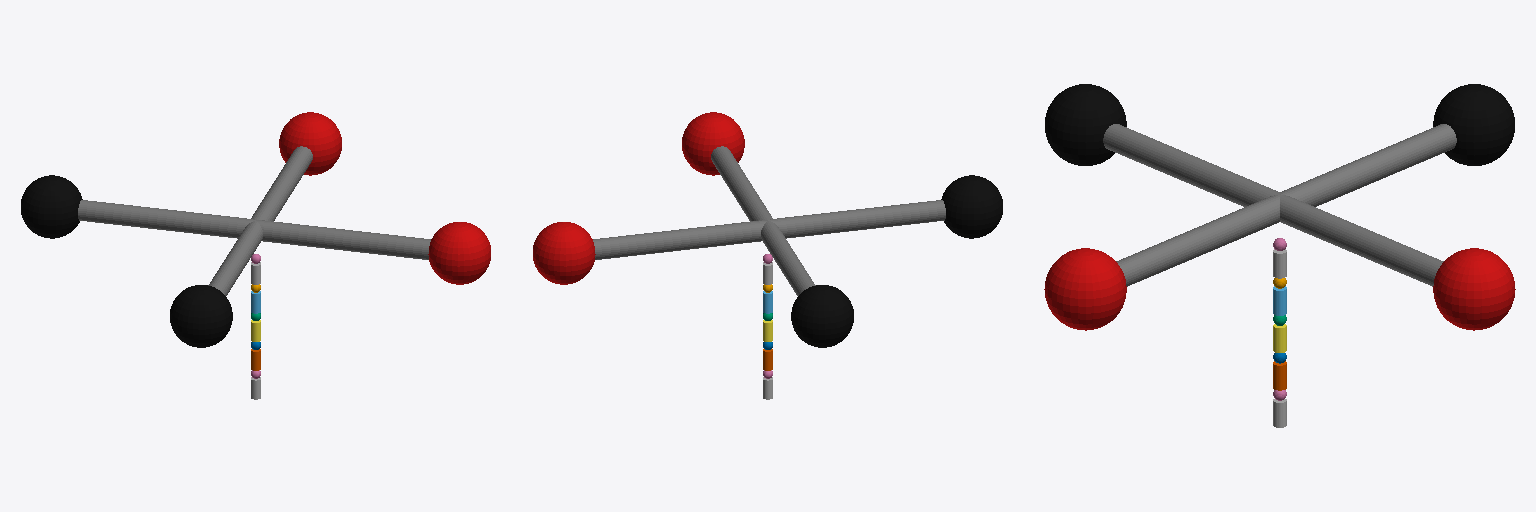
robot.urdf — general_rope:
<?xml version="1.0" ?>

<!-- general.urdf (des-inf-dom-rand) with the rope of a300_rope.urdf at twice its length (5 x 3 cm) hanging from the COM,
     for the pursuer task (rod.hang 0.16, spawn_height 2.66).
     General quadrotor for wide domain randomization: two crossed arms and four motor spheres.
     The drone parameters and their randomization ranges are in hydra_configs/drone/general.yaml, whose
     nominals are written into Genesis at build. kf and km are in <properties> because Genesis needs them to
     load. Front motors red, back motors black. -->

<robot name="general_rope">

  <properties kf="4.5e-8" km="5.4e-10" />

  <link name="base_link">

    <inertial>
      <origin rpy="0 0 0" xyz="0 0 0"/>
      <mass value="1.0"/>
      <inertia ixx="0.01" ixy="0.0" ixz="0.0" iyy="0.01" iyz="0.0" izz="0.016"/>
    </inertial>

    <visual>
      <origin rpy="0 1.570796 0.785398" xyz="0 0 0"/>
      <geometry>
        <cylinder radius="0.01" length="0.4"/>
      </geometry>
      <material name="grey"><color rgba="0.5 0.5 0.5 1"/></material>
    </visual>

    <visual>
      <origin rpy="0 1.570796 -0.785398" xyz="0 0 0"/>
      <geometry>
        <cylinder radius="0.01" length="0.4"/>
      </geometry>
      <material name="grey"><color rgba="0.5 0.5 0.5 1"/></material>
    </visual>

    <collision>
      <origin rpy="0 0 0" xyz="0 0 0"/>
      <geometry>
        <cylinder radius="0.05" length="0.04"/>
      </geometry>
    </collision>

  </link>

  <!-- Rotors as on the a300/x500: 0 front right (ccw), 1 back left (ccw), 2 front left (cw), 3 back right (cw),
       so propellers_spin=(-1, -1, 1, 1). Thrust is applied at each prop link's inertial origin. -->
  <link name="prop0_link">
    <inertial>
      <origin rpy="0 0 0" xyz="0.141421 -0.141421 0"/>
      <mass value="0"/>
      <inertia ixx="0" ixy="0" ixz="0" iyy="0" iyz="0" izz="0"/>
    </inertial>
    <visual>
      <origin rpy="0 0 0" xyz="0.141421 -0.141421 0"/>
      <geometry>
        <sphere radius="0.03"/>
      </geometry>
      <material name="red"><color rgba="0.8 0.1 0.1 1"/></material>
    </visual>
  </link>
  <joint name="prop0_joint" type="fixed">
    <parent link="base_link"/>
    <child link="prop0_link"/>
  </joint>

  <link name="prop1_link">
    <inertial>
      <origin rpy="0 0 0" xyz="-0.141421 0.141421 0"/>
      <mass value="0"/>
      <inertia ixx="0" ixy="0" ixz="0" iyy="0" iyz="0" izz="0"/>
    </inertial>
    <visual>
      <origin rpy="0 0 0" xyz="-0.141421 0.141421 0"/>
      <geometry>
        <sphere radius="0.03"/>
      </geometry>
      <material name="black"><color rgba="0.1 0.1 0.1 1"/></material>
    </visual>
  </link>
  <joint name="prop1_joint" type="fixed">
    <parent link="base_link"/>
    <child link="prop1_link"/>
  </joint>

  <link name="prop2_link">
    <inertial>
      <origin rpy="0 0 0" xyz="0.141421 0.141421 0"/>
      <mass value="0"/>
      <inertia ixx="0" ixy="0" ixz="0" iyy="0" iyz="0" izz="0"/>
    </inertial>
    <visual>
      <origin rpy="0 0 0" xyz="0.141421 0.141421 0"/>
      <geometry>
        <sphere radius="0.03"/>
      </geometry>
      <material name="red"><color rgba="0.8 0.1 0.1 1"/></material>
    </visual>
  </link>
  <joint name="prop2_joint" type="fixed">
    <parent link="base_link"/>
    <child link="prop2_link"/>
  </joint>

  <link name="prop3_link">
    <inertial>
      <origin rpy="0 0 0" xyz="-0.141421 -0.141421 0"/>
      <mass value="0"/>
      <inertia ixx="0" ixy="0" ixz="0" iyy="0" iyz="0" izz="0"/>
    </inertial>
    <visual>
      <origin rpy="0 0 0" xyz="-0.141421 -0.141421 0"/>
      <geometry>
        <sphere radius="0.03"/>
      </geometry>
      <material name="black"><color rgba="0.1 0.1 0.1 1"/></material>
    </visual>
  </link>
  <joint name="prop3_joint" type="fixed">
    <parent link="base_link"/>
    <child link="prop3_link"/>
  </joint>




  <link name="center_of_mass_link">
    <inertial>
      <origin rpy="0 0 0" xyz="0 0 0"/>
      <mass value="0"/>
      <inertia ixx="0" ixy="0" ixz="0" iyy="0" iyz="0" izz="0"/>
    </inertial>
  </link>
  <joint name="center_of_mass_joint" type="fixed">
    <parent link="base_link"/>
    <child link="center_of_mass_link"/>
  </joint>

  <!-- rope of 5 segments (two revolute joints each) hanging from the COM, as in bros300.urdf; the rod
       task welds a rod to segment_5_cylinder -->
<!-- Spherical joint -->
  <link name="segment_1_sphere">
    <visual>
      <geometry>
        <sphere radius="0.005"/>
      </geometry>
      <material name="gray"/>
    </visual>
    <inertial>
      <origin rpy="0 0 0" xyz="0 0 0"/>
      <mass value="0.002"/>
      <inertia ixx="1e-7" ixy="0" ixz="0" iyy="1e-7" iyz="0" izz="1e-7"/>
    </inertial>
  </link>
  <joint name="center_of_mass_link_to_segment_1_sphere" type="revolute">
    <parent link="center_of_mass_link"/>
    <child link="segment_1_sphere"/>
    <origin rpy="0 0 0" xyz="0 0 -0.03"/>
    <axis xyz="0 1 0"/>
    <limit effort="10" lower="-3.14" upper="3.14" velocity="3"/>
    <dynamics damping="0.1" friction="0.0"/>
  </joint>
  <!-- Cylinder segment -->
  <link name="segment_1_cylinder">
    <visual>
      <geometry>
        <cylinder length="0.02" radius="0.005"/>
      </geometry>
      <origin rpy="0 0 0" xyz="0 0 -0.015"/>
      <material name="blue"/>
    </visual>
    <inertial>
      <origin rpy="0 0 0" xyz="0 0 -0.015"/>
      <mass value="0.002"/>
      <inertia ixx="1e-7" ixy="0" ixz="0" iyy="1e-7" iyz="0" izz="1e-7"/>
    </inertial>
  </link>
  <joint name="segment_1_sphere_to_cylinder" type="revolute">
    <parent link="segment_1_sphere"/>
    <child link="segment_1_cylinder"/>
    <origin rpy="0 0 0" xyz="0 0 0"/>
    <axis xyz="1 0 0"/>
    <limit effort="10" lower="-3.14" upper="3.14" velocity="3"/>
    <dynamics damping="0.1" friction="0.0"/>
  </joint>

  <!-- Spherical joint -->
  <link name="segment_2_sphere">
    <visual>
      <geometry>
        <sphere radius="0.005"/>
      </geometry>
      <material name="gray"/>
    </visual>
    <inertial>
      <origin rpy="0 0 0" xyz="0 0 0"/>
      <mass value="0.002"/>
      <inertia ixx="1e-7" ixy="0" ixz="0" iyy="1e-7" iyz="0" izz="1e-7"/>
    </inertial>
  </link>
  <joint name="segment_1_cylinder_to_segment_2_sphere" type="revolute">
    <parent link="segment_1_cylinder"/>
    <child link="segment_2_sphere"/>
    <origin rpy="0 0 0" xyz="0 0 -0.03"/>
    <axis xyz="0 1 0"/>
    <limit effort="10" lower="-3.14" upper="3.14" velocity="3"/>
    <dynamics damping="0.1" friction="0.0"/>
  </joint>
  <!-- Cylinder segment -->
  <link name="segment_2_cylinder">
    <visual>
      <geometry>
        <cylinder length="0.02" radius="0.005"/>
      </geometry>
      <origin rpy="0 0 0" xyz="0 0 -0.015"/>
      <material name="blue"/>
    </visual>
    <inertial>
      <origin rpy="0 0 0" xyz="0 0 -0.015"/>
      <mass value="0.002"/>
      <inertia ixx="1e-7" ixy="0" ixz="0" iyy="1e-7" iyz="0" izz="1e-7"/>
    </inertial>
  </link>
  <joint name="segment_2_sphere_to_cylinder" type="revolute">
    <parent link="segment_2_sphere"/>
    <child link="segment_2_cylinder"/>
    <origin rpy="0 0 0" xyz="0 0 0"/>
    <axis xyz="1 0 0"/>
    <limit effort="10" lower="-3.14" upper="3.14" velocity="3"/>
    <dynamics damping="0.1" friction="0.0"/>
  </joint>

  <!-- Spherical joint -->
  <link name="segment_3_sphere">
    <visual>
      <geometry>
        <sphere radius="0.005"/>
      </geometry>
      <material name="gray"/>
    </visual>
    <inertial>
      <origin rpy="0 0 0" xyz="0 0 0"/>
      <mass value="0.002"/>
      <inertia ixx="1e-7" ixy="0" ixz="0" iyy="1e-7" iyz="0" izz="1e-7"/>
    </inertial>
  </link>
  <joint name="segment_2_cylinder_to_segment_3_sphere" type="revolute">
    <parent link="segment_2_cylinder"/>
    <child link="segment_3_sphere"/>
    <origin rpy="0 0 0" xyz="0 0 -0.03"/>
    <axis xyz="0 1 0"/>
    <limit effort="10" lower="-3.14" upper="3.14" velocity="3"/>
    <dynamics damping="0.1" friction="0.0"/>
  </joint>
  <!-- Cylinder segment -->
  <link name="segment_3_cylinder">
    <visual>
      <geometry>
        <cylinder length="0.02" radius="0.005"/>
      </geometry>
      <origin rpy="0 0 0" xyz="0 0 -0.015"/>
      <material name="blue"/>
    </visual>
    <inertial>
      <origin rpy="0 0 0" xyz="0 0 -0.015"/>
      <mass value="0.002"/>
      <inertia ixx="1e-7" ixy="0" ixz="0" iyy="1e-7" iyz="0" izz="1e-7"/>
    </inertial>
  </link>
  <joint name="segment_3_sphere_to_cylinder" type="revolute">
    <parent link="segment_3_sphere"/>
    <child link="segment_3_cylinder"/>
    <origin rpy="0 0 0" xyz="0 0 0"/>
    <axis xyz="1 0 0"/>
    <limit effort="10" lower="-3.14" upper="3.14" velocity="3"/>
    <dynamics damping="0.1" friction="0.0"/>
  </joint>

  <!-- Spherical joint -->
  <link name="segment_4_sphere">
    <visual>
      <geometry>
        <sphere radius="0.005"/>
      </geometry>
      <material name="gray"/>
    </visual>
    <inertial>
      <origin rpy="0 0 0" xyz="0 0 0"/>
      <mass value="0.002"/>
      <inertia ixx="1e-7" ixy="0" ixz="0" iyy="1e-7" iyz="0" izz="1e-7"/>
    </inertial>
  </link>
  <joint name="segment_3_cylinder_to_segment_4_sphere" type="revolute">
    <parent link="segment_3_cylinder"/>
    <child link="segment_4_sphere"/>
    <origin rpy="0 0 0" xyz="0 0 -0.03"/>
    <axis xyz="0 1 0"/>
    <limit effort="10" lower="-3.14" upper="3.14" velocity="3"/>
    <dynamics damping="0.1" friction="0.0"/>
  </joint>
  <!-- Cylinder segment -->
  <link name="segment_4_cylinder">
    <visual>
      <geometry>
        <cylinder length="0.02" radius="0.005"/>
      </geometry>
      <origin rpy="0 0 0" xyz="0 0 -0.015"/>
      <material name="blue"/>
    </visual>
    <inertial>
      <origin rpy="0 0 0" xyz="0 0 -0.015"/>
      <mass value="0.002"/>
      <inertia ixx="1e-7" ixy="0" ixz="0" iyy="1e-7" iyz="0" izz="1e-7"/>
    </inertial>
  </link>
  <joint name="segment_4_sphere_to_cylinder" type="revolute">
    <parent link="segment_4_sphere"/>
    <child link="segment_4_cylinder"/>
    <origin rpy="0 0 0" xyz="0 0 0"/>
    <axis xyz="1 0 0"/>
    <limit effort="10" lower="-3.14" upper="3.14" velocity="3"/>
    <dynamics damping="0.1" friction="0.0"/>
  </joint>

  <!-- Spherical joint -->
  <link name="segment_5_sphere">
    <visual>
      <geometry>
        <sphere radius="0.005"/>
      </geometry>
      <material name="gray"/>
    </visual>
    <inertial>
      <origin rpy="0 0 0" xyz="0 0 0"/>
      <mass value="0.002"/>
      <inertia ixx="1e-7" ixy="0" ixz="0" iyy="1e-7" iyz="0" izz="1e-7"/>
    </inertial>
  </link>
  <joint name="segment_4_cylinder_to_segment_5_sphere" type="revolute">
    <parent link="segment_4_cylinder"/>
    <child link="segment_5_sphere"/>
    <origin rpy="0 0 0" xyz="0 0 -0.03"/>
    <axis xyz="0 1 0"/>
    <limit effort="10" lower="-3.14" upper="3.14" velocity="3"/>
    <dynamics damping="0.1" friction="0.0"/>
  </joint>
  <!-- Cylinder segment -->
  <link name="segment_5_cylinder">
    <visual>
      <geometry>
        <cylinder length="0.02" radius="0.005"/>
      </geometry>
      <origin rpy="0 0 0" xyz="0 0 -0.015"/>
      <material name="blue"/>
    </visual>
    <inertial>
      <origin rpy="0 0 0" xyz="0 0 -0.015"/>
      <mass value="0.002"/>
      <inertia ixx="1e-7" ixy="0" ixz="0" iyy="1e-7" iyz="0" izz="1e-7"/>
    </inertial>
  </link>
  <joint name="segment_5_sphere_to_cylinder" type="revolute">
    <parent link="segment_5_sphere"/>
    <child link="segment_5_cylinder"/>
    <origin rpy="0 0 0" xyz="0 0 0"/>
    <axis xyz="1 0 0"/>
    <limit effort="10" lower="-3.14" upper="3.14" velocity="3"/>
    <dynamics damping="0.1" friction="0.0"/>
  </joint>

</robot>

--- Render facts (derived) ---
3 views of the same robot in one strip: view 1: azimuth 30°, elevation 25°; view 2: azimuth 150°, elevation 25°; view 3: azimuth 270°, elevation 25° (orthographic).
Model general_rope with 16 links and 15 joints (10 revolute, 5 fixed), rooted at base_link, posed all joints at 0.
Links seen in each view (by area): view 1: base_link, prop3_link, prop0_link, prop1_link, prop2_link; view 2: base_link, prop1_link, prop2_link, prop3_link, prop0_link; view 3: base_link, prop0_link, prop2_link, prop1_link, prop3_link.
Link boxes in pixels (bbox=[...]): base_link: bbox=[78, 146, 430, 295]; prop3_link: bbox=[170, 285, 232, 347]; prop0_link: bbox=[428, 222, 490, 284]; prop1_link: bbox=[21, 175, 82, 238]; prop2_link: bbox=[279, 112, 341, 175]; base_link: bbox=[593, 146, 945, 295]; prop1_link: bbox=[791, 285, 853, 347]; prop2_link: bbox=[533, 222, 595, 284]; prop3_link: bbox=[941, 175, 1002, 238]; prop0_link: bbox=[682, 112, 744, 175]; base_link: bbox=[1103, 124, 1456, 286]; prop0_link: bbox=[1044, 248, 1126, 330]; prop2_link: bbox=[1433, 248, 1515, 330]; prop1_link: bbox=[1433, 84, 1514, 165]; prop3_link: bbox=[1045, 84, 1126, 165].
Bounding box of the posed robot: 0.3428 × 0.3428 × 0.205 m (x, y, z).
Geometry: primitives only (box / cylinder / sphere), no mesh files.
